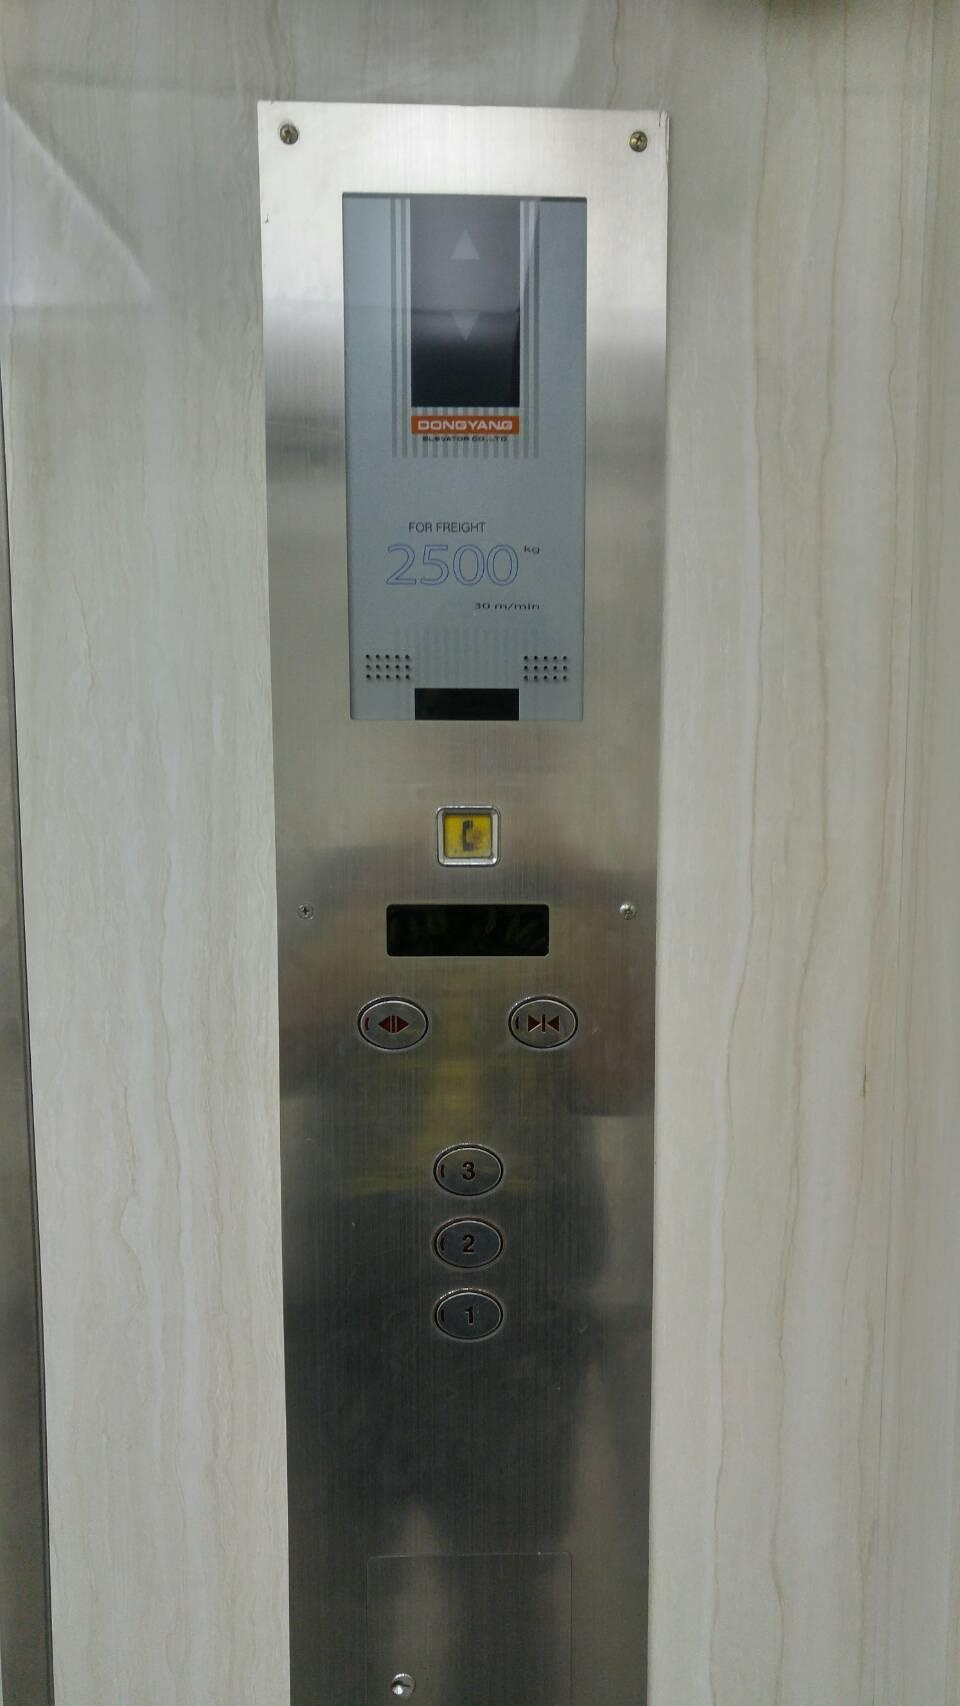1: (428, 1282, 509, 1346)
2: (428, 1213, 508, 1272)
3: (429, 1139, 509, 1202)
call: (435, 801, 504, 871)
close: (499, 991, 583, 1055)
led: (402, 187, 531, 415)
open: (350, 994, 433, 1055)
